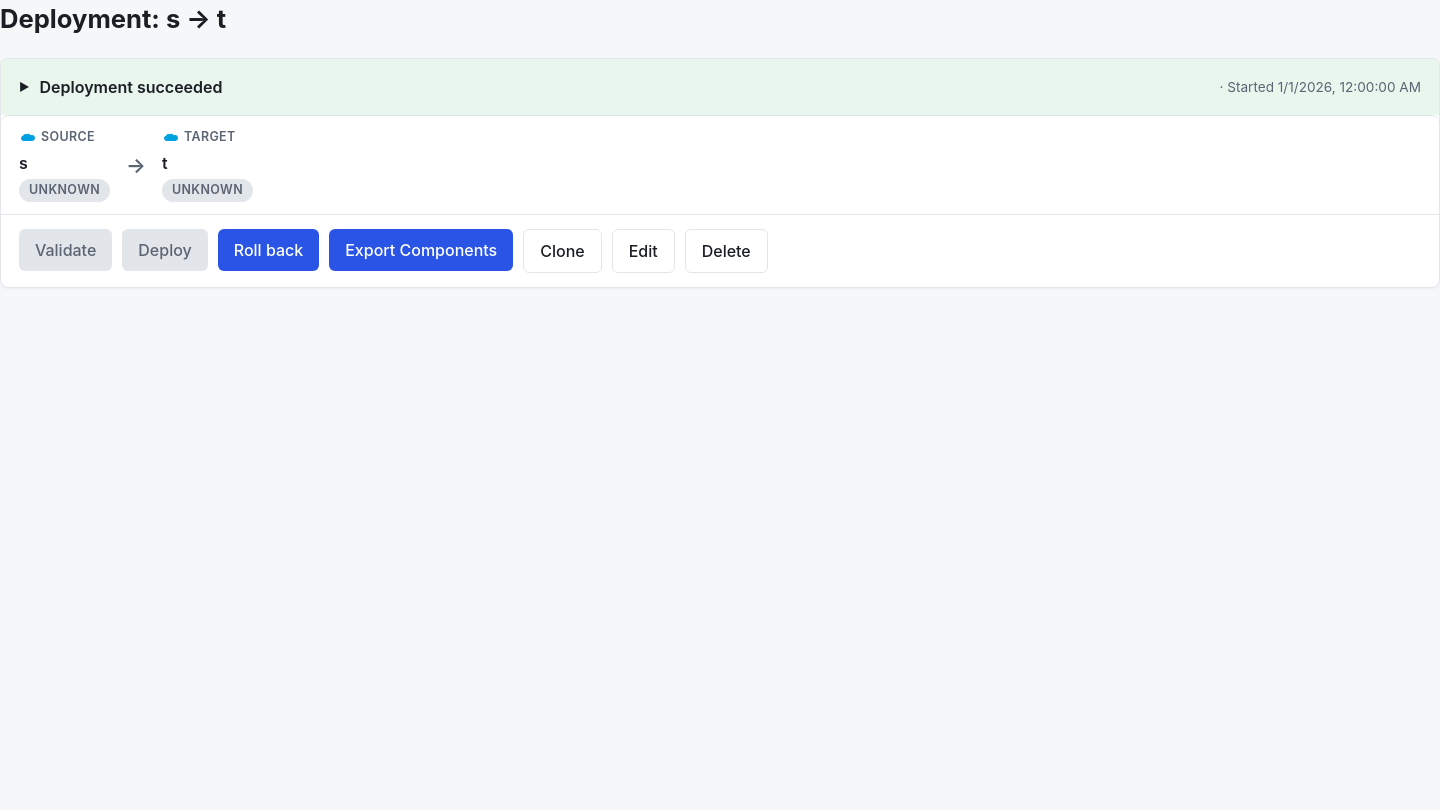
Test case: DeploymentDetailPage › Export Components › closes when the close button is clicked
The width and height of the screenshot is (1440, 810).
Click the button "Export Components": {"x": 421, "y": 250} [329, 229, 513, 271]
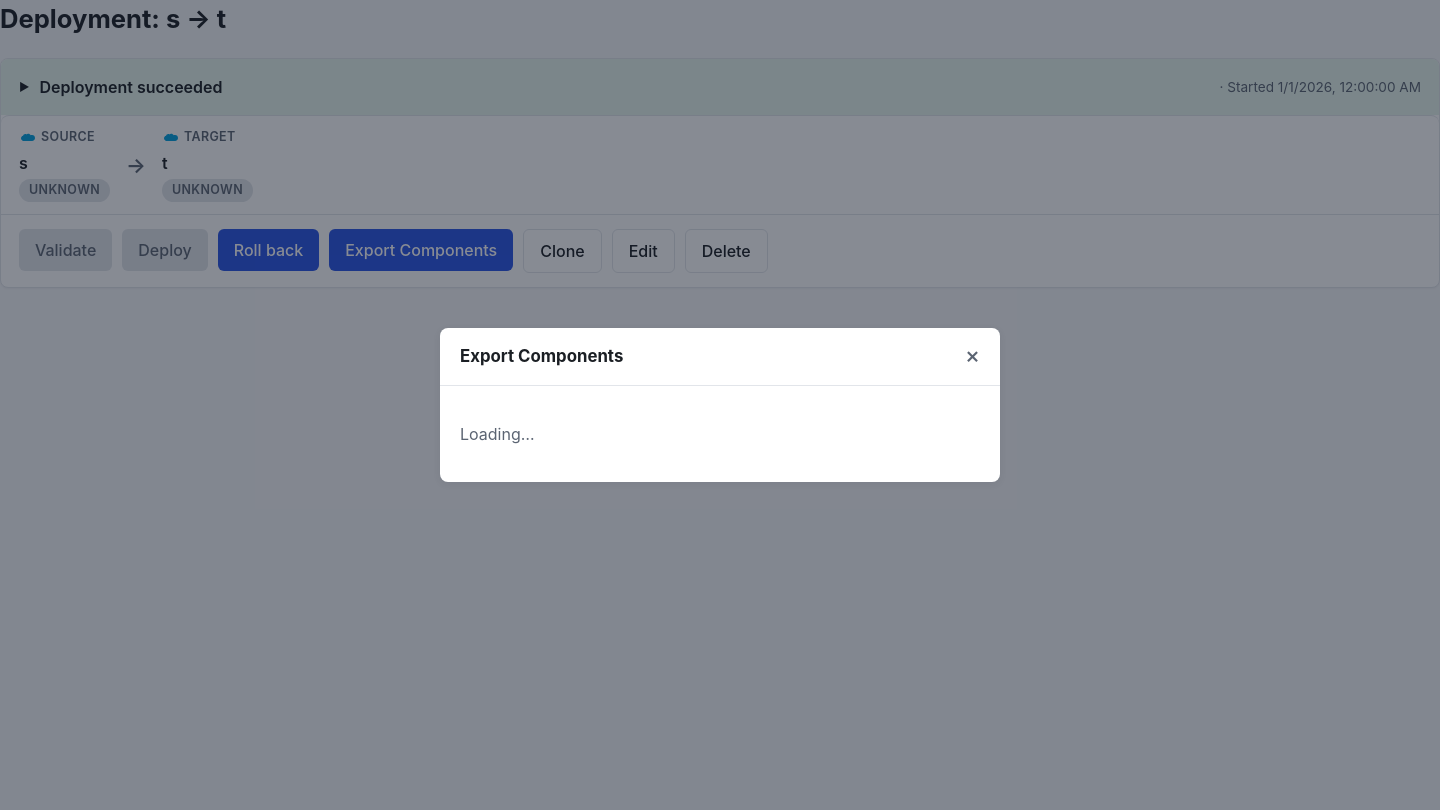
expect the dialog is shown: met, box [440, 328, 1000, 482]
Click the button named "close": {"x": 972, "y": 355} [965, 344, 980, 366]
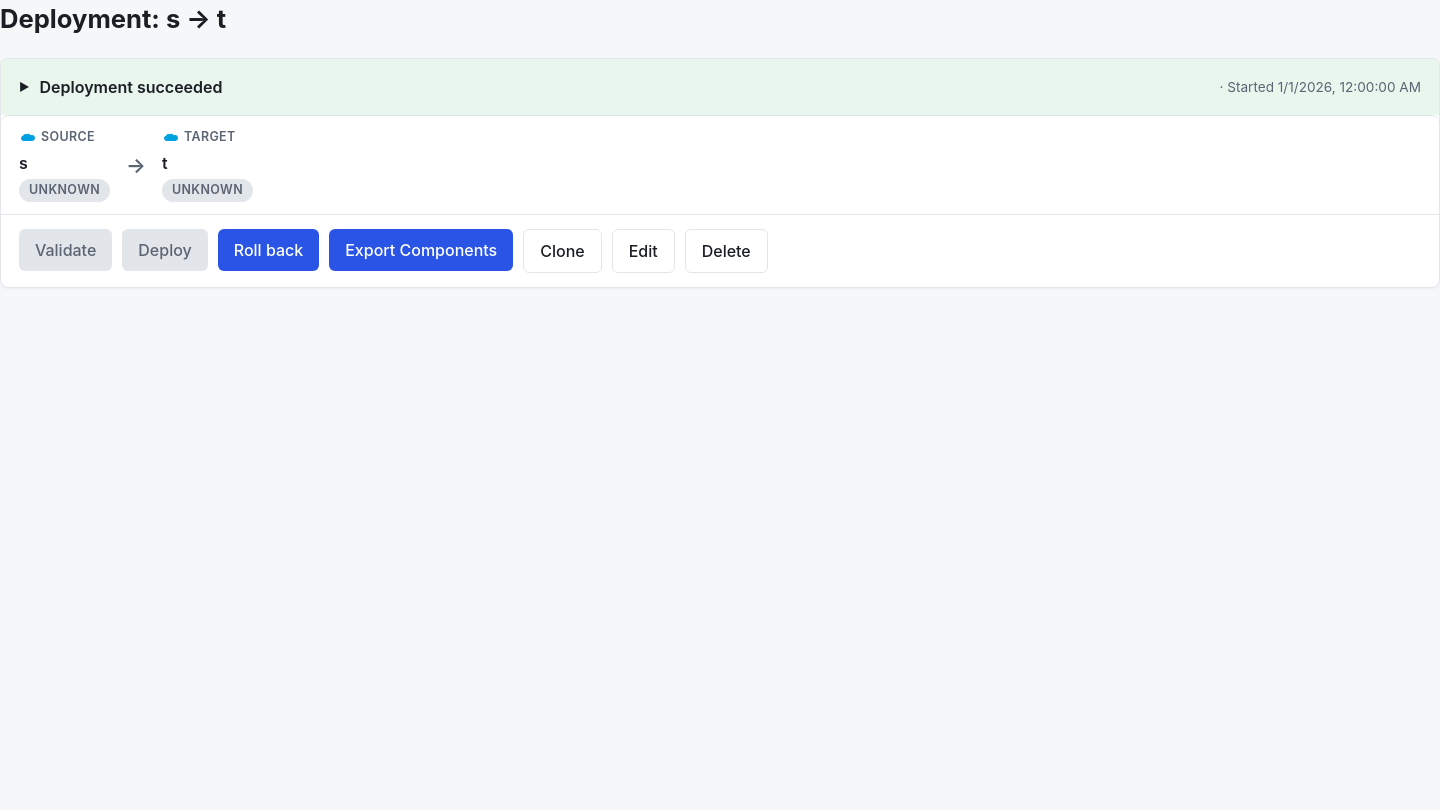
expect the dialog is gone: met
